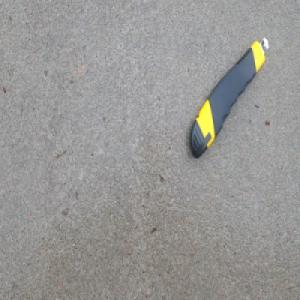Cutter: (187, 38, 267, 163)
